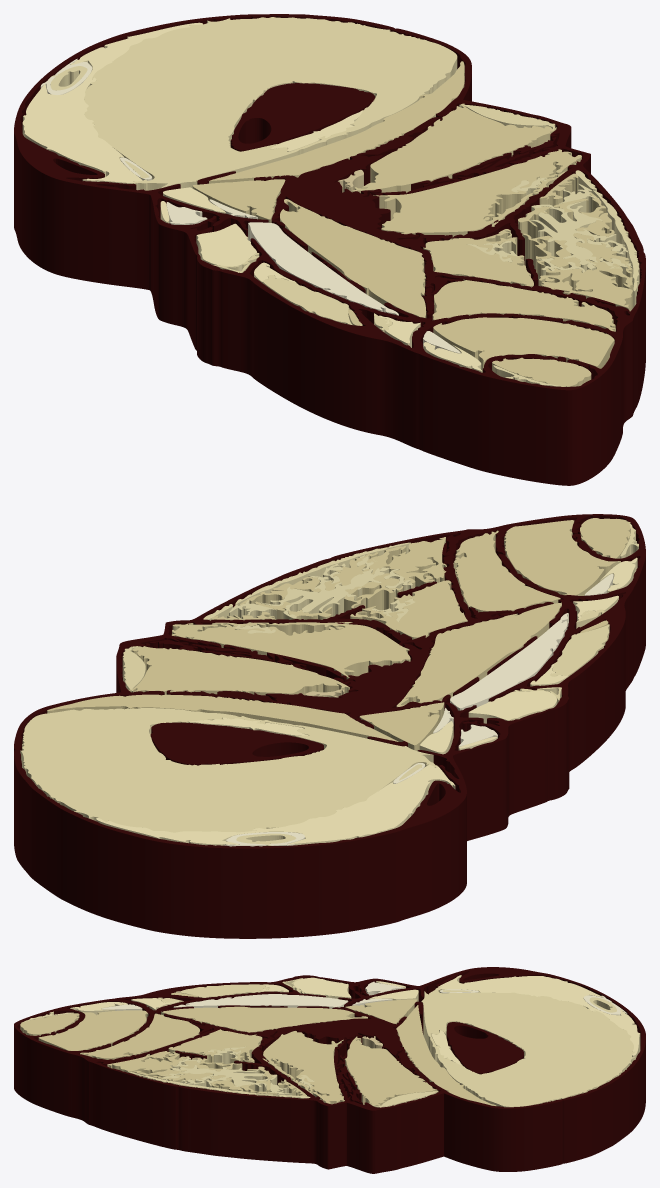
The picture shows the model from 3 angles, top to bottom: view 1: azimuth 30°, elevation 25°; view 2: azimuth 150°, elevation 25°; view 3: azimuth 270°, elevation 25°; orthographic projection. The views are drawn at different scales.
Parts seen in each view (by area): view 1: imagetostl_mesh52, imagetostl_mesh33, imagetostl_mesh53, imagetostl_mesh3, imagetostl_mesh1, imagetostl_mesh5, imagetostl_mesh71, imagetostl_mesh7, imagetostl_mesh55, imagetostl_mesh9, imagetostl_mesh11, imagetostl_mesh13 (+16 smaller); view 2: imagetostl_mesh52, imagetostl_mesh33, imagetostl_mesh53, imagetostl_mesh1, imagetostl_mesh3, imagetostl_mesh5, imagetostl_mesh71, imagetostl_mesh7, imagetostl_mesh55, imagetostl_mesh9, imagetostl_mesh11, imagetostl_mesh13 (+20 smaller); view 3: imagetostl_mesh52, imagetostl_mesh33, imagetostl_mesh53, imagetostl_mesh5, imagetostl_mesh3, imagetostl_mesh1, imagetostl_mesh71, imagetostl_mesh7, imagetostl_mesh55, imagetostl_mesh9, imagetostl_mesh11, imagetostl_mesh101 (+17 smaller).
Boxes of the visible parts, x1,y1,x2,y2 form: imagetostl_mesh52: (14,15,645,485); imagetostl_mesh33: (84,17,457,187); imagetostl_mesh53: (14,14,645,390); imagetostl_mesh3: (352,103,556,190); imagetostl_mesh1: (373,149,581,233); imagetostl_mesh5: (280,199,426,317); imagetostl_mesh71: (22,22,202,183); imagetostl_mesh7: (433,317,614,366); imagetostl_mesh55: (231,83,375,150); imagetostl_mesh9: (210,61,464,180); imagetostl_mesh11: (432,279,615,331); imagetostl_mesh13: (423,229,533,286); imagetostl_mesh52: (14,515,645,938); imagetostl_mesh33: (20,708,435,832); imagetostl_mesh53: (14,514,645,848); imagetostl_mesh1: (172,622,410,677); imagetostl_mesh3: (128,646,349,693); imagetostl_mesh5: (396,602,561,706); imagetostl_mesh71: (96,765,455,844); imagetostl_mesh7: (504,520,619,595); imagetostl_mesh55: (150,722,323,764); imagetostl_mesh9: (47,694,398,741); imagetostl_mesh11: (453,530,560,610); imagetostl_mesh13: (350,580,467,637); imagetostl_mesh52: (14,971,645,1173); imagetostl_mesh33: (421,986,634,1106); imagetostl_mesh53: (14,967,645,1110); imagetostl_mesh5: (161,1006,367,1032); imagetostl_mesh3: (345,1036,438,1106); imagetostl_mesh1: (262,1031,344,1103); imagetostl_mesh71: (438,975,639,1055); imagetostl_mesh7: (38,1010,147,1050); imagetostl_mesh55: (446,1022,523,1073); imagetostl_mesh9: (396,1005,496,1105); imagetostl_mesh11: (80,1013,199,1058); imagetostl_mesh101: (174,994,347,1006).
Bounding box in the file's own units: 48.72 × 10 × 90.59.
